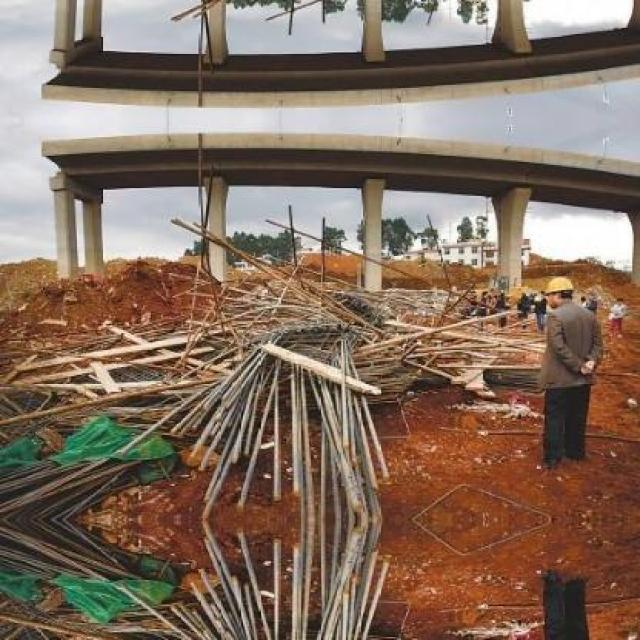helmet: (542, 270, 576, 311)
